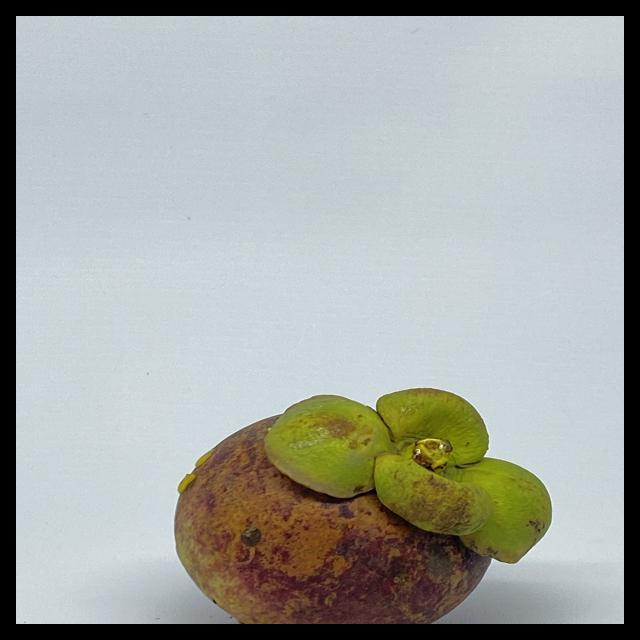mangosteen: (164, 346, 554, 624)
